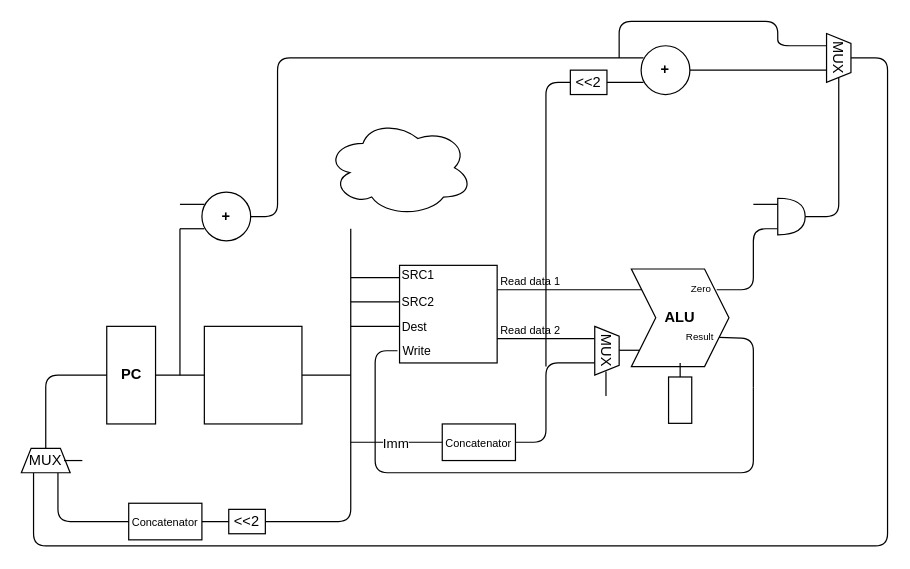
The diagram is 910 pixels wide and 569 high, and some of its shapes have lost their labels. Each missing label, with the centre of its shape:
"ALU CTRL" goes at point (679, 399).
"Control Unit" goes at point (399, 167).
"Instruction Memory" goes at point (252, 374).
